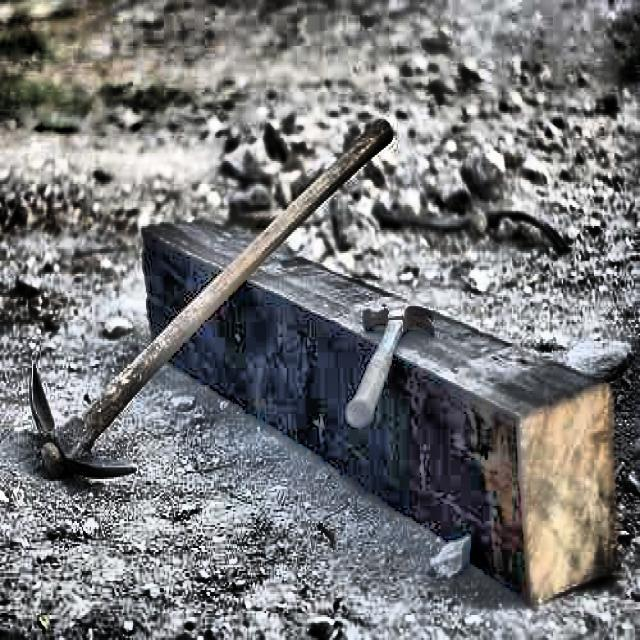hammer: (346, 304, 438, 428)
